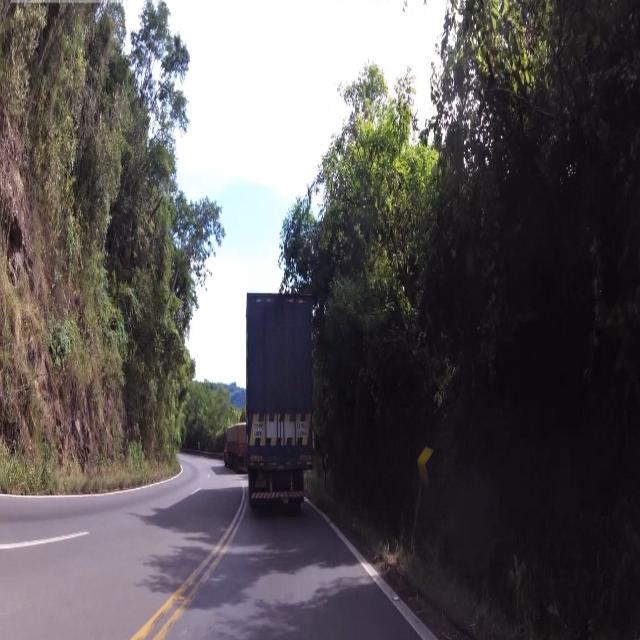Del: (419, 448, 433, 492)
